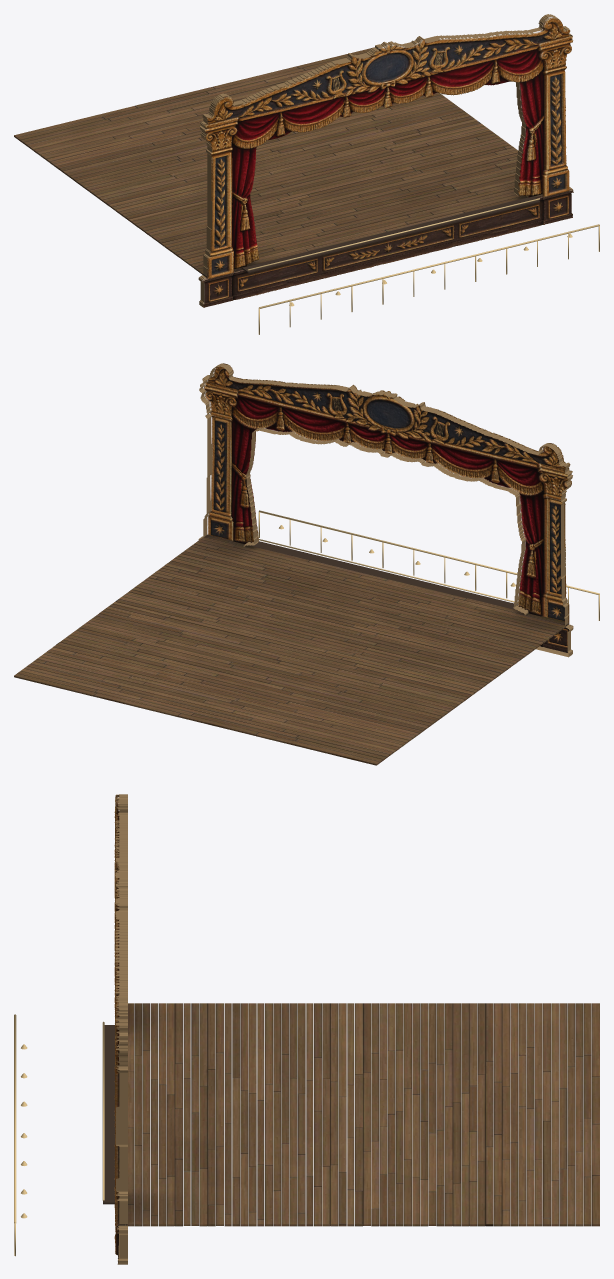
Rendered from house.glb.
The picture shows the model from 3 angles, top to bottom: view 1: azimuth 30°, elevation 25°; view 2: azimuth 150°, elevation 25°; view 3: azimuth 270°, elevation 25°; orthographic projection. The views are drawn at different scales.
Parts seen in each view (by area): view 1: floor, arch, lip, rail, fender; view 2: floor, arch, lip, rail, fender; view 3: floor, arch, lip, rail.
Part boxes in pixels (bbox=[...]): floor: bbox=[14, 47, 542, 277]; arch: bbox=[198, 14, 573, 307]; lip: bbox=[242, 196, 539, 273]; rail: bbox=[259, 224, 599, 308]; fender: bbox=[248, 198, 539, 270]; floor: bbox=[14, 534, 569, 765]; arch: bbox=[198, 363, 573, 657]; lip: bbox=[251, 541, 528, 612]; rail: bbox=[258, 510, 599, 594]; fender: bbox=[259, 539, 514, 602]; floor: bbox=[118, 1003, 599, 1226]; arch: bbox=[114, 794, 127, 1264]; lip: bbox=[103, 1025, 115, 1204]; rail: bbox=[14, 1014, 16, 1222].
Bounding box in the file's own units: 7.19 × 4.05 × 7.88.
6 materials, 2 textured.
